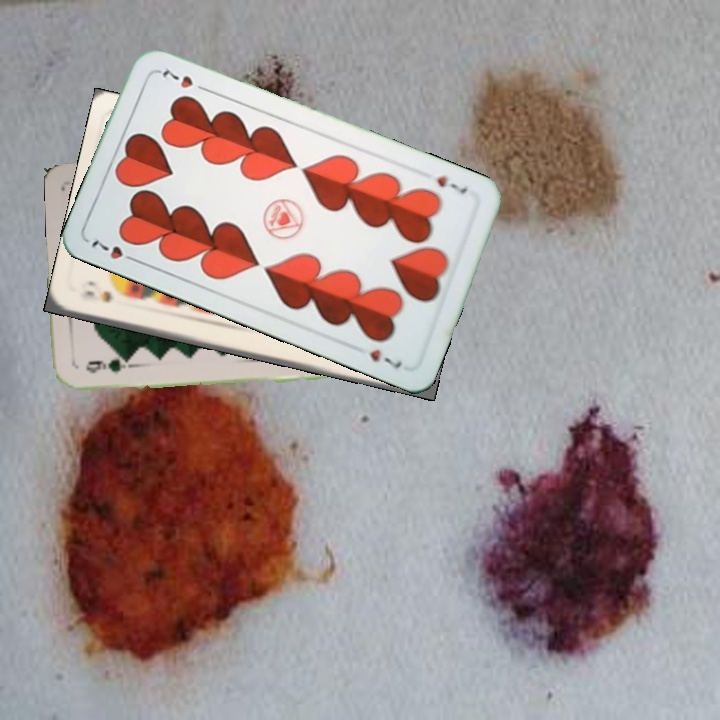G9: (82, 354, 133, 376)
H7: (87, 235, 142, 266), (432, 171, 470, 196)
S10: (75, 286, 117, 306)
